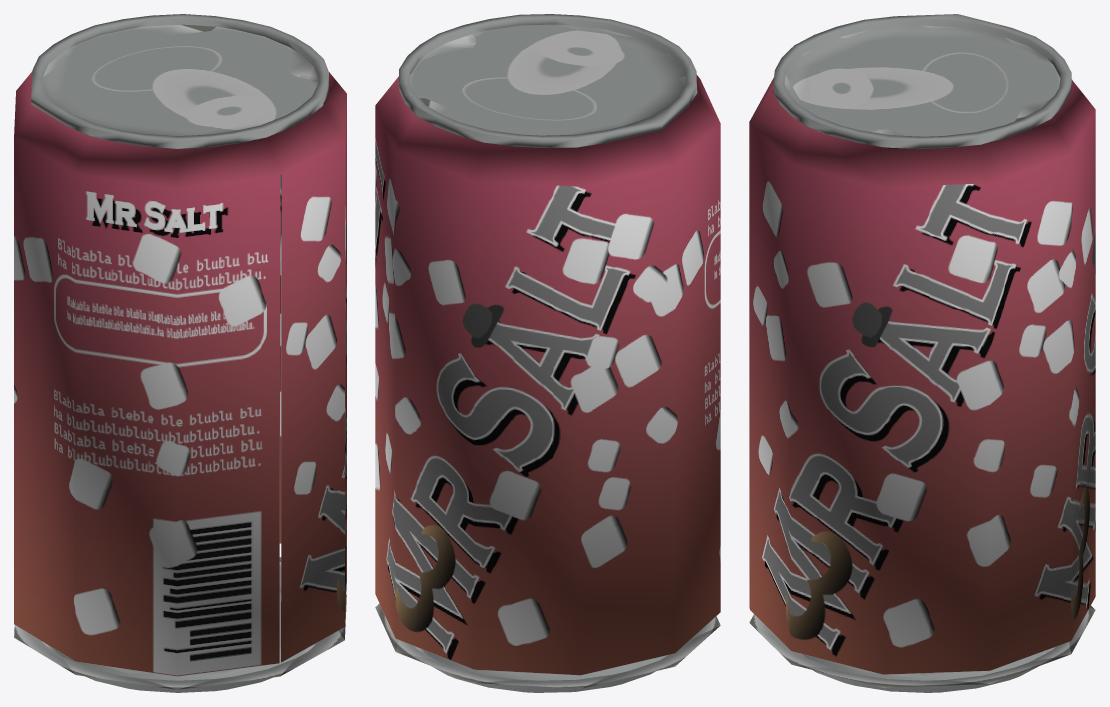
Rendered from Mr Salt.obj.
3 views of the same model, side by side, from view 1: azimuth 30°, elevation 25°; view 2: azimuth 150°, elevation 25°; view 3: azimuth 270°, elevation 25° (orthographic).
Visible parts, largest first — view 1: Mr_Salt; view 2: Mr_Salt; view 3: Mr_Salt.
Boxes of the visible parts, left/top/right/bottom form: Mr_Salt: left=14, top=14, right=346, bottom=692; Mr_Salt: left=375, top=14, right=720, bottom=692; Mr_Salt: left=749, top=14, right=1095, bottom=692.
Size of the model in its own units: 0.0959 by 0.1737 by 0.0981.
